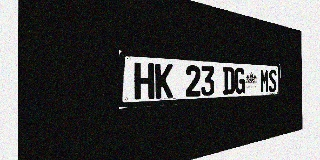2: (186, 65, 200, 97)
3: (201, 66, 214, 96)
D: (223, 67, 234, 95)
G: (235, 67, 245, 94)
H: (134, 62, 154, 100)
K: (155, 63, 173, 99)
M: (260, 69, 269, 93)
S: (269, 69, 277, 92)
